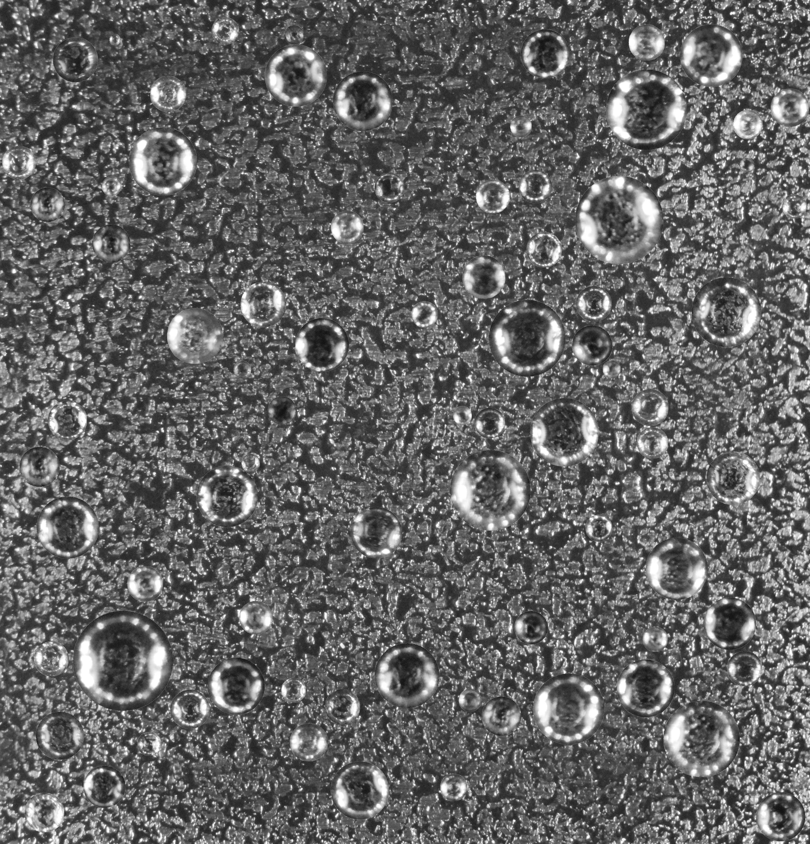Bubble: (72, 610, 172, 710), (575, 176, 663, 264), (606, 69, 686, 149), (450, 450, 530, 530), (488, 299, 565, 376), (663, 700, 739, 777), (533, 673, 604, 744), (691, 277, 761, 346), (128, 127, 196, 195), (530, 398, 598, 466), (374, 643, 439, 708), (264, 44, 326, 106), (680, 24, 742, 86), (36, 496, 98, 558), (645, 537, 707, 599), (196, 465, 257, 527), (333, 71, 392, 130), (616, 659, 674, 717), (330, 761, 388, 819), (207, 657, 264, 714), (167, 308, 222, 363), (706, 451, 759, 504), (295, 318, 348, 371), (703, 597, 756, 649), (350, 507, 402, 558), (520, 29, 569, 78), (756, 792, 805, 841), (35, 711, 83, 759), (240, 281, 286, 327), (52, 37, 97, 82), (462, 255, 505, 298), (83, 765, 125, 807), (572, 325, 612, 365), (24, 792, 64, 832), (19, 446, 59, 486), (481, 696, 521, 735), (47, 400, 86, 439), (170, 689, 209, 728), (770, 88, 809, 126), (92, 224, 130, 262), (289, 723, 327, 761), (631, 389, 668, 425), (628, 24, 664, 60), (150, 75, 186, 111), (324, 689, 360, 724), (727, 651, 762, 686), (127, 566, 162, 601), (576, 286, 611, 321), (33, 641, 68, 676), (526, 232, 561, 267), (518, 169, 552, 203), (30, 187, 64, 221), (2, 145, 35, 179), (476, 179, 509, 213), (330, 210, 363, 243), (514, 611, 547, 644), (239, 601, 272, 634), (636, 427, 668, 458), (474, 407, 505, 438), (374, 172, 404, 202), (733, 109, 762, 139), (267, 396, 296, 424), (211, 17, 238, 44), (440, 774, 467, 801), (585, 514, 612, 541), (411, 301, 437, 327), (642, 626, 667, 651), (281, 678, 305, 702), (782, 194, 806, 218), (137, 732, 161, 755), (458, 689, 481, 711), (510, 115, 531, 137), (101, 176, 121, 195), (284, 25, 303, 44), (241, 453, 259, 472), (233, 360, 251, 378), (453, 406, 471, 424), (602, 360, 620, 378), (739, 158, 754, 172), (109, 34, 120, 45)
